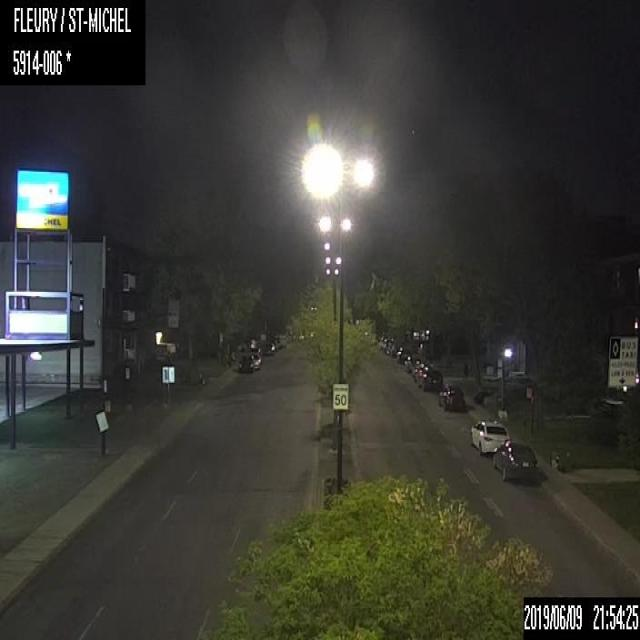vehicle: (492, 438, 538, 481), (468, 418, 507, 456), (438, 384, 466, 411), (237, 347, 261, 373), (422, 368, 444, 392), (266, 338, 278, 353)
